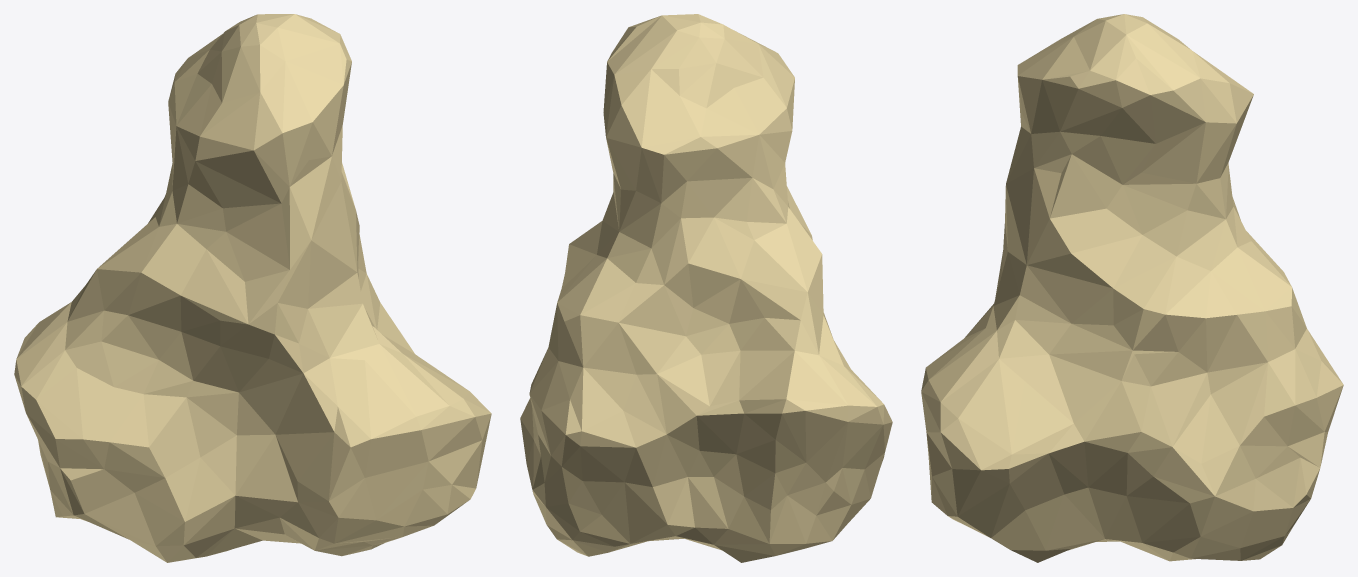
File: Asteroid (10).fbx
3 views of the same model, side by side, from view 1: azimuth 30°, elevation 25°; view 2: azimuth 150°, elevation 25°; view 3: azimuth 270°, elevation 25° (orthographic). The views are drawn at different scales.
Parts seen in each view (by area): view 1: Asteroid169; view 2: Asteroid169; view 3: Asteroid169.
Part boxes in pixels (x1=…): Asteroid169: x1=14, y1=14, x2=491, y2=562; Asteroid169: x1=520, y1=14, x2=892, y2=562; Asteroid169: x1=921, y1=14, x2=1343, y2=562.
Size of the model in its own units: 209 by 283 by 205.
